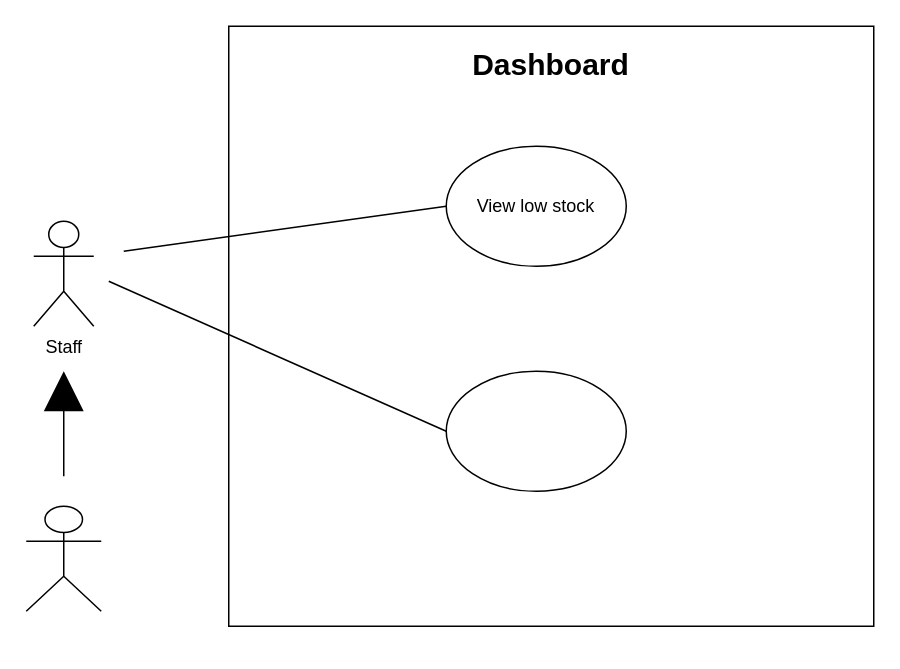
This 900x669 diagram has some shape labels left out. The centre of each missing label's shape, as x and y in pixels:
Admin: point (63, 558)
View predicted stockouts: point (535, 430)
